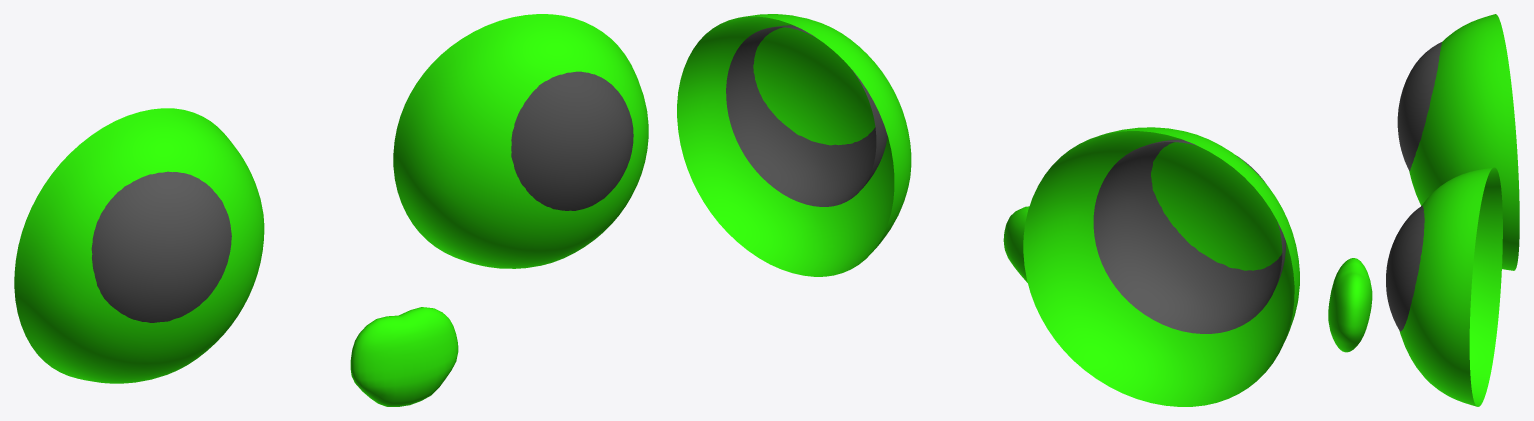
The model's file is yeuxNez-singe-green.gltf.
The picture shows the model from 3 angles, left to right: view 1: azimuth 30°, elevation 25°; view 2: azimuth 150°, elevation 25°; view 3: azimuth 270°, elevation 25°; orthographic projection. The views are drawn at different scales.
Visible parts, largest first — view 1: cercle oeil droit; view 2: cercle oeil droit; view 3: cercle oeil droit.
Boxes of the visible parts, x1,y1,x2,y2 form: cercle oeil droit: (14,14,648,406); cercle oeil droit: (677,14,1299,406); cercle oeil droit: (1328,14,1519,406).
Bounding box in the file's own units: 1.45 × 0.6328 × 0.4384.
